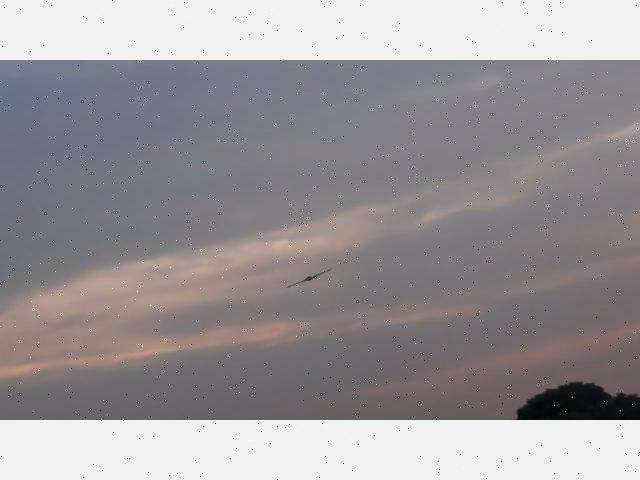Anti-Drone: (286, 268, 332, 286)
